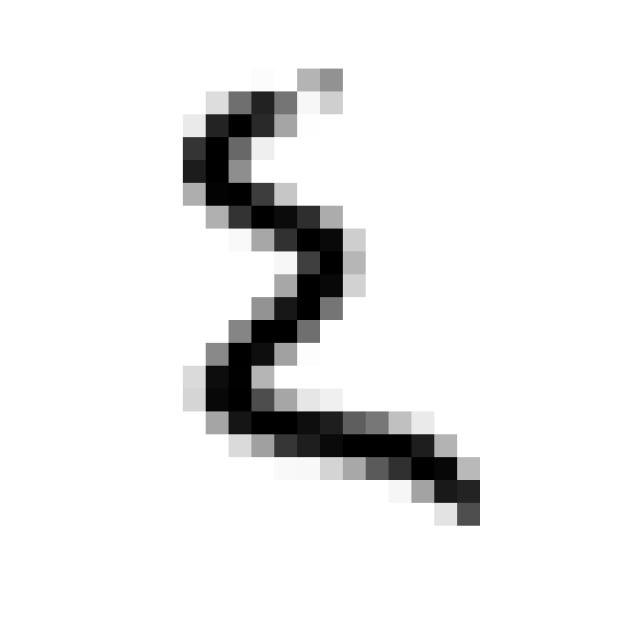4 -four-: (156, 53, 504, 544)
